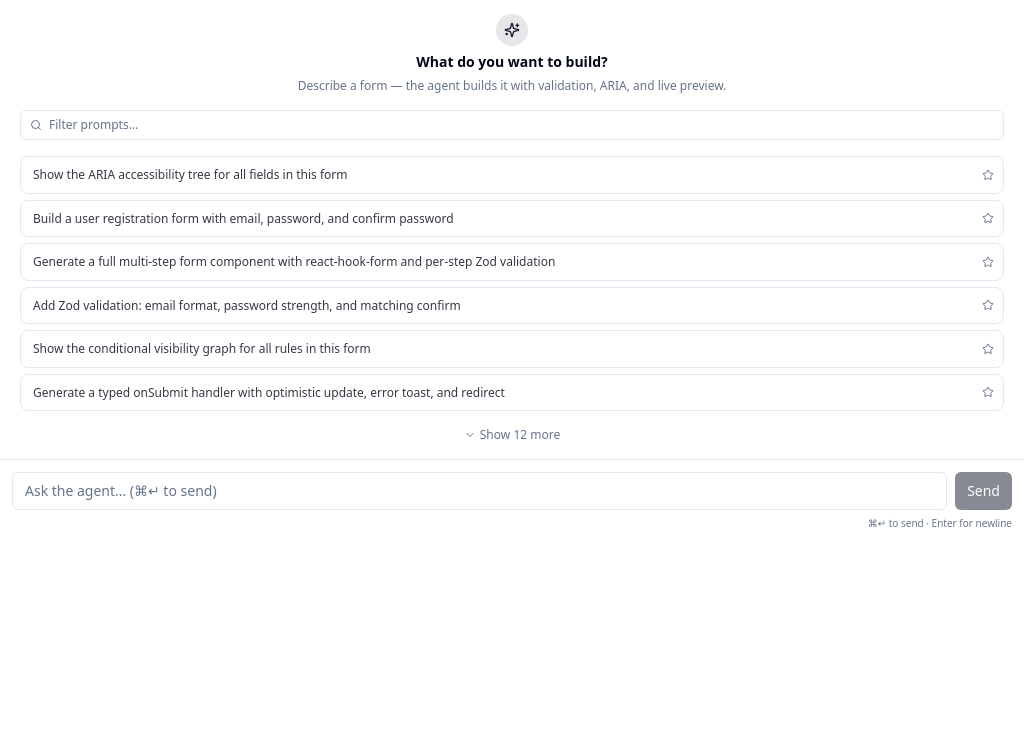
Test case: Show more / show less › collapses back on 'Show less' click
The image size is (1024, 742).
Click the button "Show 12 more" at point(512, 435), box x1=20 y1=427 x2=1004 y2=443
(page scrolled)
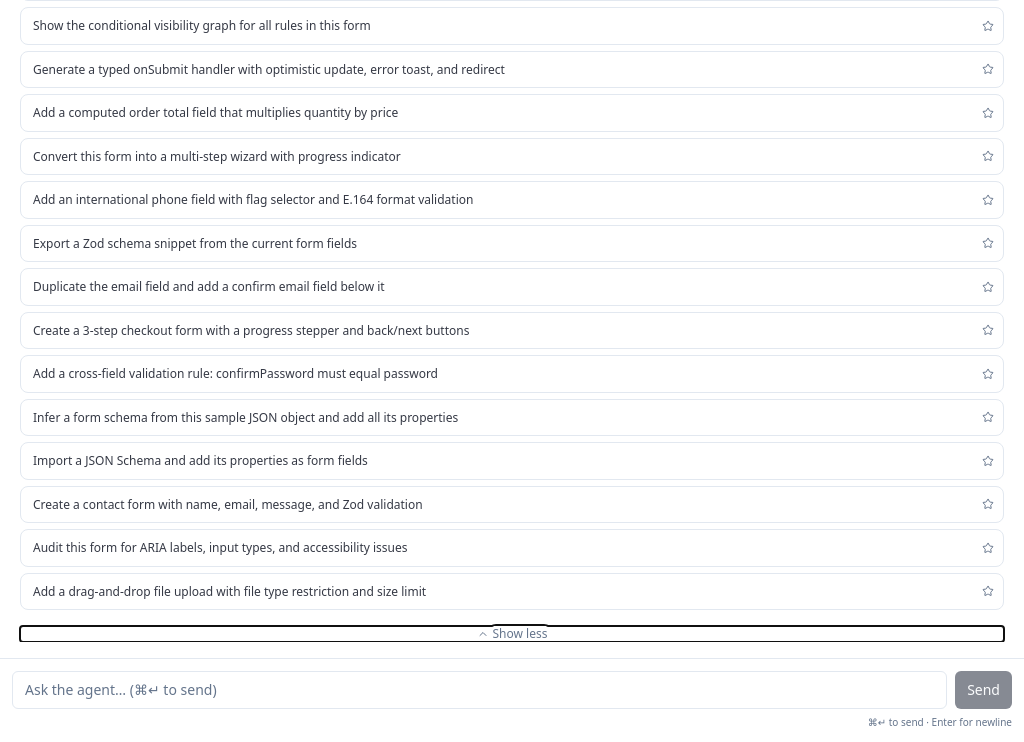
Click the button "Show less" at point(512, 634), box x1=20 y1=626 x2=1004 y2=642
(page scrolled)
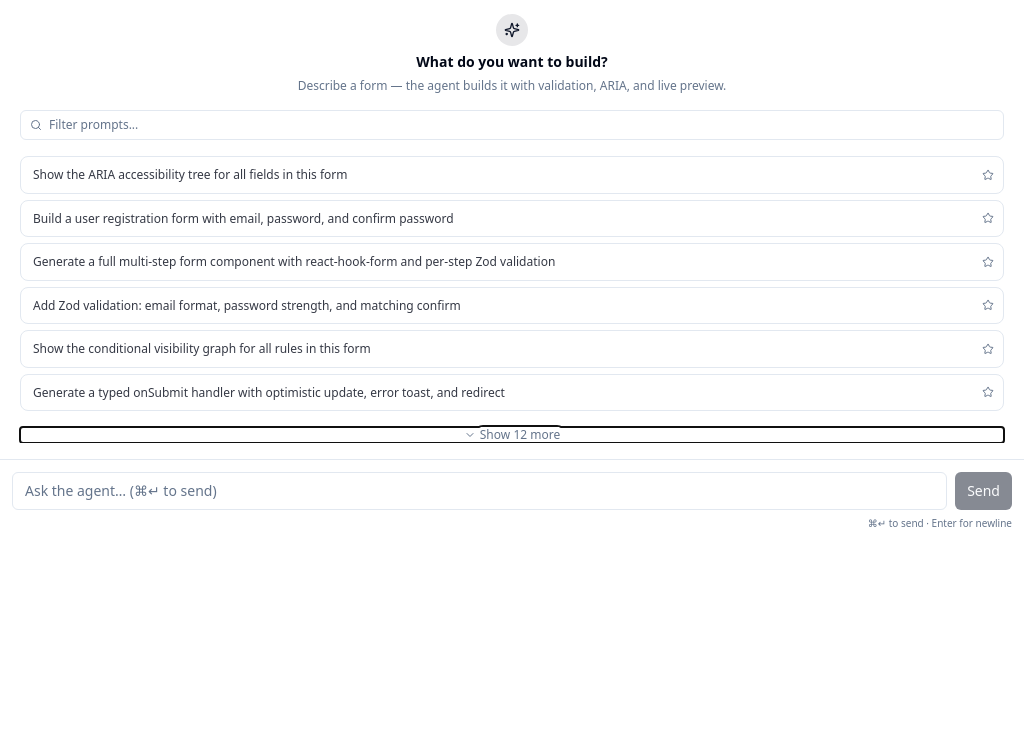
Expected: the button "Show 12 more" is shown, x1=20 y1=427 x2=1004 y2=443
